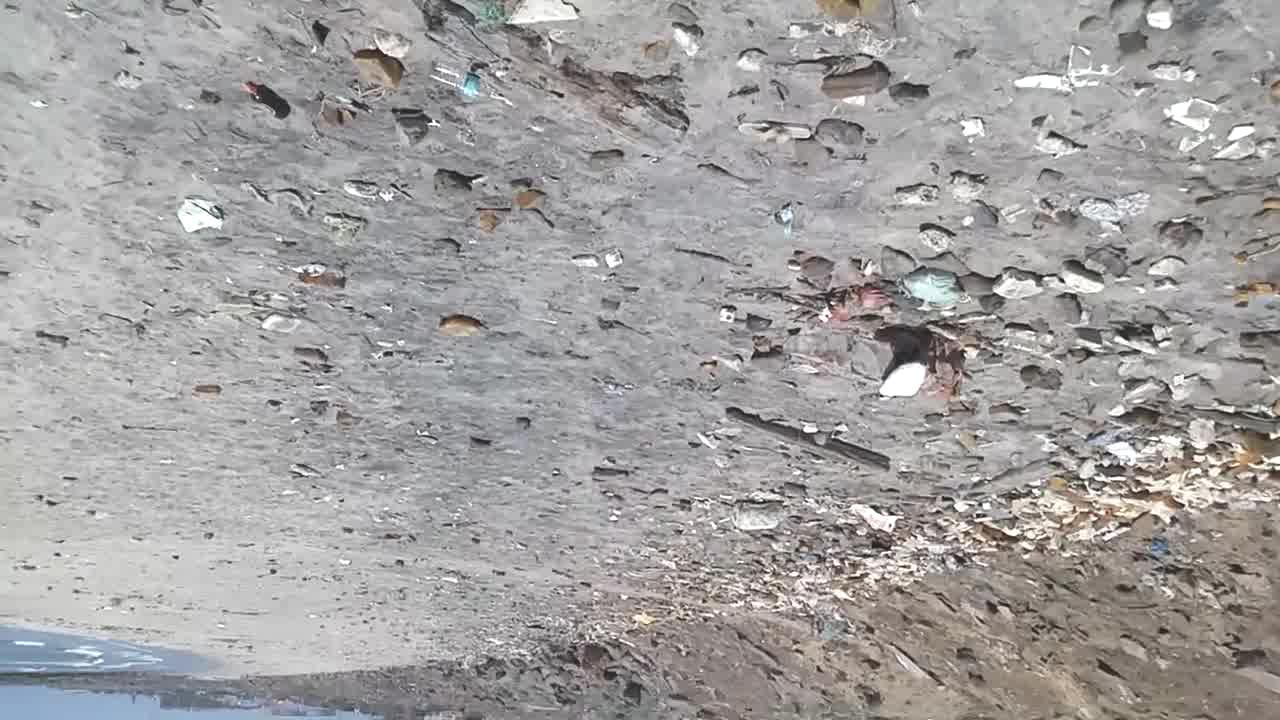large collection of objects: (718, 371, 1278, 609), (732, 503, 782, 528)
obj: (423, 1, 689, 151), (766, 290, 988, 404), (724, 407, 892, 472), (1013, 39, 1132, 91), (1148, 100, 1251, 156), (810, 64, 926, 104), (988, 257, 1107, 293), (429, 59, 502, 103), (474, 190, 550, 232), (348, 49, 404, 88), (906, 271, 961, 309), (169, 197, 227, 232), (1036, 124, 1084, 160), (500, 1, 575, 22), (738, 119, 812, 140), (437, 314, 480, 336), (576, 252, 622, 272), (948, 178, 983, 202), (893, 186, 941, 202), (587, 467, 638, 482), (920, 228, 950, 248), (566, 1, 578, 16)
sand/background: (1, 418, 1279, 719)
